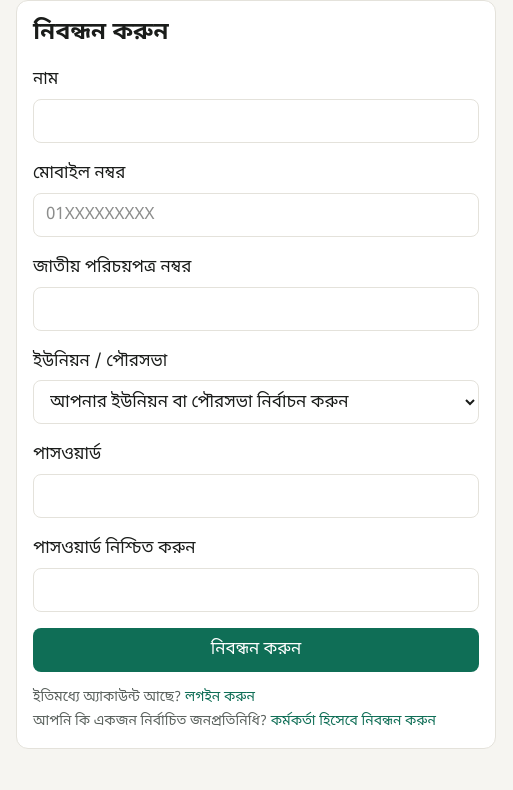
Test: Register › keeps the union required — an unchosen select is not a submitted one
The image size is (513, 790).
In the field labelled "নাম": (256, 121) top-left (33, 99), bottom-right (479, 143), type "রহিমা খাতুন"
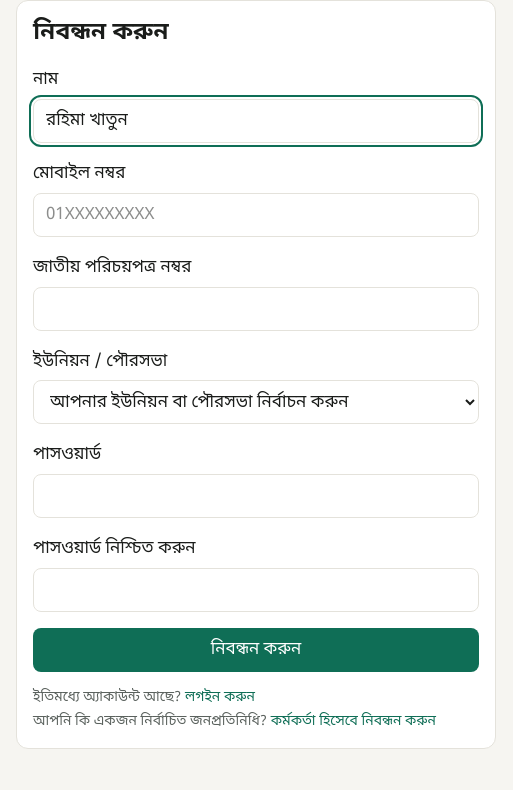
In the field labelled "মোবাইল নম্বর": (256, 215) top-left (33, 193), bottom-right (479, 237), type "01810000001"
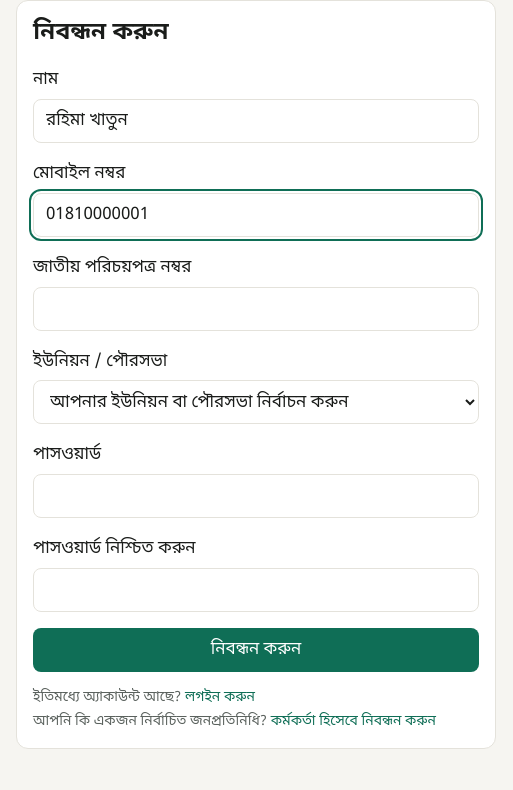
In the field labelled "জাতীয় পরিচয়পত্র নম্বর": (256, 309) top-left (33, 287), bottom-right (479, 331), type "1234567890111"
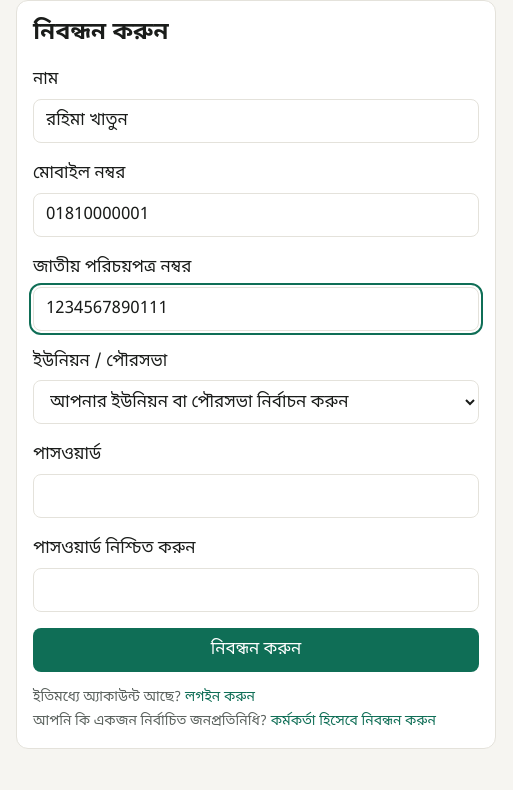
In the password field labelled "পাসওয়ার্ড": (256, 496) top-left (33, 474), bottom-right (479, 518), type "resident123"
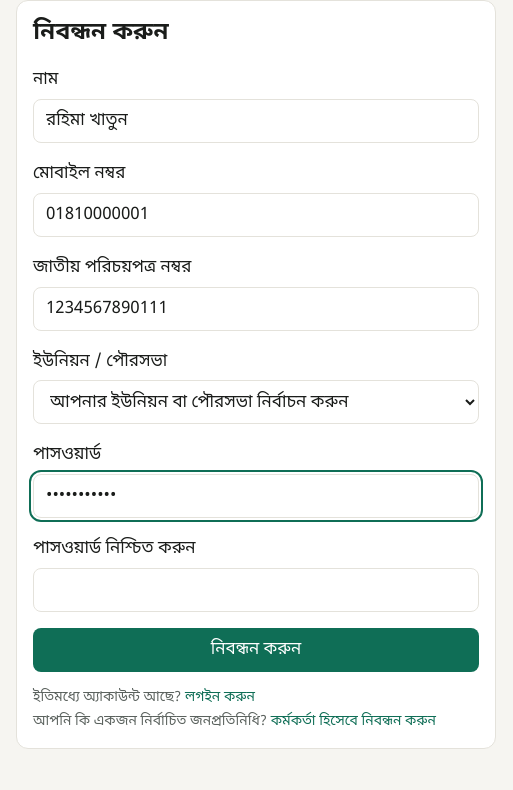
In the password field labelled "পাসওয়ার্ড নিশ্চিত করুন": (256, 590) top-left (33, 568), bottom-right (479, 612), type "resident123"
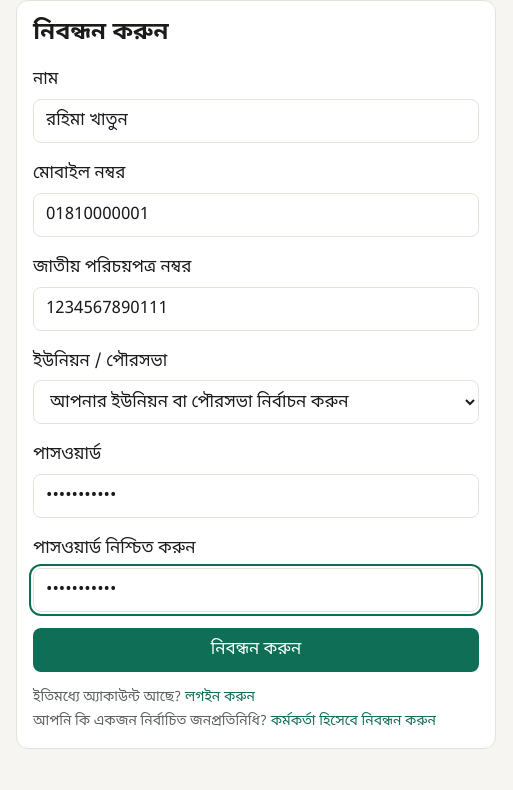
Click the button "নিবন্ধন করুন": (256, 650) top-left (33, 628), bottom-right (479, 672)
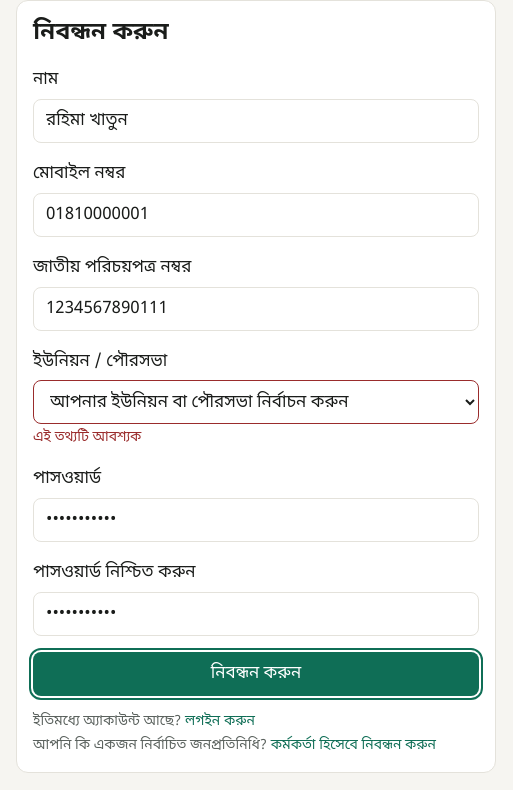
Expected: the text "এই তথ্যটি আবশ্যক" is shown, top-left (33, 428), bottom-right (141, 447)
